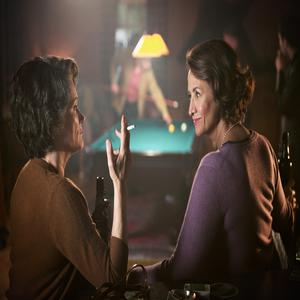cigarette: (115, 122, 139, 134)
